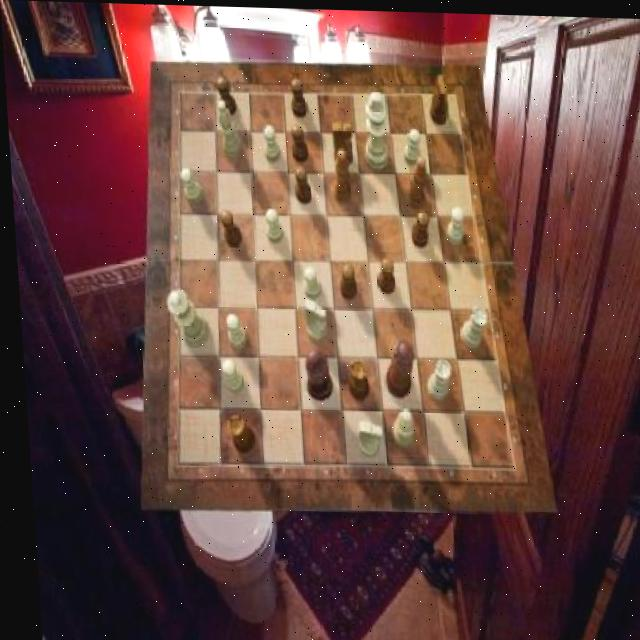bishop: (400, 154, 426, 209), (328, 146, 348, 200)
black-bishop: (298, 346, 327, 399)
black-king: (426, 71, 447, 123), (329, 120, 351, 166)
black-knight: (217, 208, 239, 246), (215, 76, 235, 115), (407, 209, 428, 246), (288, 122, 307, 161), (287, 77, 306, 116), (291, 165, 310, 203), (373, 256, 392, 293), (333, 261, 352, 298)
black-pawn: (378, 336, 411, 397)
black-queen: (221, 414, 249, 452), (342, 359, 365, 399)
black-rook: (215, 99, 239, 158), (385, 407, 409, 446)
white-bishop: (360, 90, 388, 169)
white-king: (299, 297, 324, 342), (351, 420, 377, 457)
white-knight: (442, 205, 463, 243), (178, 167, 199, 203), (216, 359, 237, 393), (221, 313, 242, 347), (401, 128, 420, 164), (261, 123, 279, 161), (299, 264, 318, 298), (261, 208, 280, 242)
white-pawn: (161, 288, 204, 347)
white-queen: (456, 304, 485, 347), (420, 357, 447, 399)
